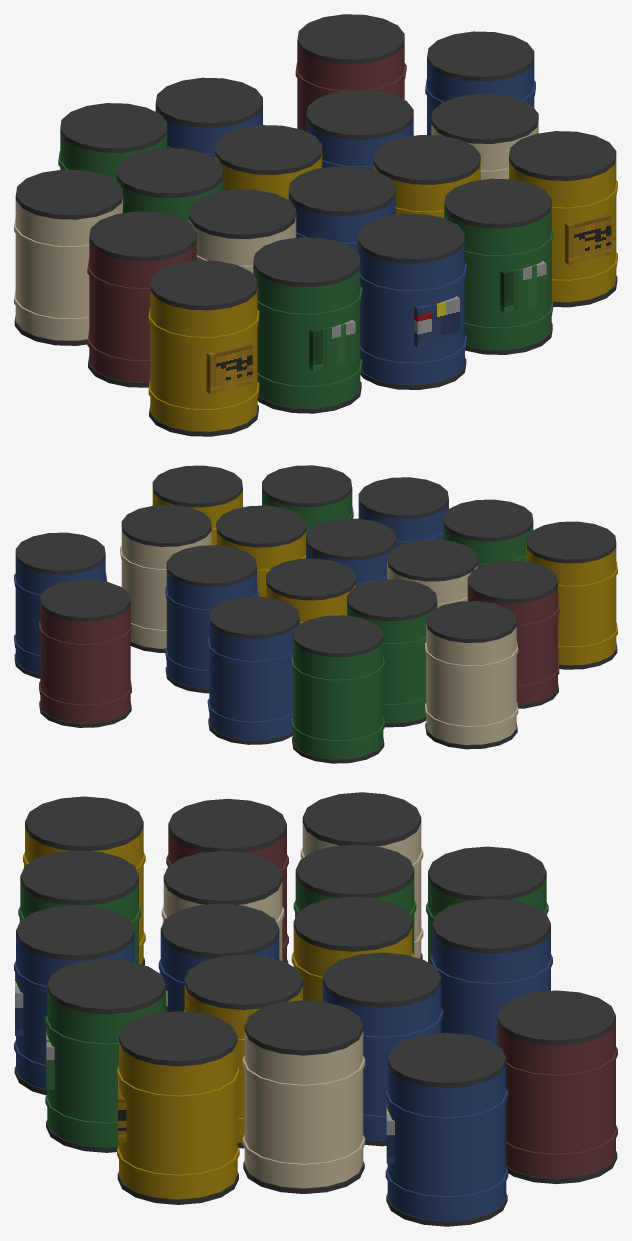
File: CMU3DMaterialLeisureBarrelYardCloud.glb
The picture shows the model from 3 angles, top to bottom: view 1: azimuth 30°, elevation 25°; view 2: azimuth 150°, elevation 25°; view 3: azimuth 270°, elevation 25°; orthographic projection. The views are drawn at different scales.
Visible parts, largest first — view 1: barrel 0 metal body, barrel 2 metal body, barrel 1 metal body, barrel 10 metal body, barrel 3 metal body, barrel 5 metal body, barrel 4 metal body, barrel 0 closed lid, barrel 2 closed lid, barrel 5 closed lid, barrel 6 closed lid, barrel 1 closed lid (+40 smaller); view 2: barrel 16 metal body, barrel 14 metal body, barrel 10 metal body, barrel 15 metal body, barrel 0 metal body, barrel 13 metal body, barrel 11 metal body, barrel 9 metal body, barrel 5 metal body, barrel 17 metal body, barrel 0 closed lid, barrel 6 closed lid (+36 smaller); view 3: barrel 9 metal body, barrel 17 metal body, barrel 4 metal body, barrel 16 metal body, barrel 3 metal body, barrel 15 metal body, barrel 17 closed lid, barrel 9 closed lid, barrel 12 closed lid, barrel 3 closed lid, barrel 4 closed lid, barrel 13 closed lid (+37 smaller).
Boxes of the visible parts, x1,y1,x2,y2 form: barrel 0 metal body: (150, 286, 257, 431); barrel 2 metal body: (357, 240, 464, 384); barrel 1 metal body: (253, 264, 360, 408); barrel 10 metal body: (15, 196, 122, 340); barrel 3 metal body: (444, 204, 551, 349); barrel 5 metal body: (89, 236, 196, 382); barrel 4 metal body: (509, 155, 616, 302); barrel 0 closed lid: (150, 260, 257, 310); barrel 2 closed lid: (357, 213, 464, 263); barrel 5 closed lid: (89, 211, 196, 261); barrel 6 closed lid: (189, 189, 296, 239); barrel 1 closed lid: (253, 237, 360, 287); barrel 16 metal body: (40, 601, 130, 723); barrel 14 metal body: (293, 636, 383, 759); barrel 10 metal body: (426, 622, 516, 744); barrel 15 metal body: (209, 618, 299, 740); barrel 0 metal body: (526, 543, 616, 665); barrel 13 metal body: (166, 566, 256, 688); barrel 11 metal body: (347, 600, 437, 722); barrel 9 metal body: (121, 527, 211, 648); barrel 5 metal body: (467, 582, 557, 704); barrel 17 metal body: (15, 555, 105, 674); barrel 0 closed lid: (526, 521, 616, 563); barrel 6 closed lid: (387, 539, 477, 581); barrel 9 metal body: (244, 1031, 363, 1188); barrel 17 metal body: (387, 1063, 506, 1220); barrel 4 metal body: (119, 1042, 237, 1199); barrel 16 metal body: (497, 1021, 615, 1178); barrel 3 metal body: (47, 990, 165, 1147); barrel 15 metal body: (432, 929, 550, 1045); barrel 17 closed lid: (387, 1033, 506, 1088); barrel 9 closed lid: (244, 1000, 363, 1055); barrel 12 closed lid: (293, 896, 412, 951); barrel 3 closed lid: (47, 959, 165, 1014); barrel 4 closed lid: (119, 1011, 237, 1066); barrel 13 closed lid: (322, 952, 441, 1007).
Size of the model in its own units: 3.09 by 0.705 by 2.7.
Materials: 12 (5 with a texture image).
